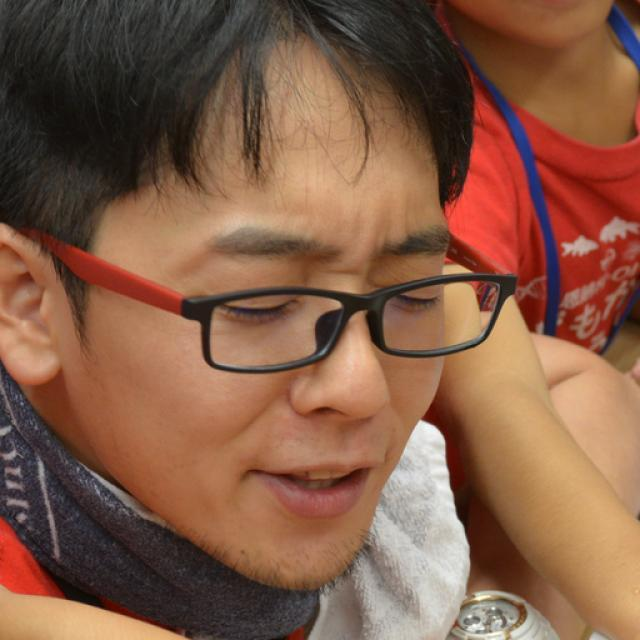neutral: (64, 29, 449, 592)
